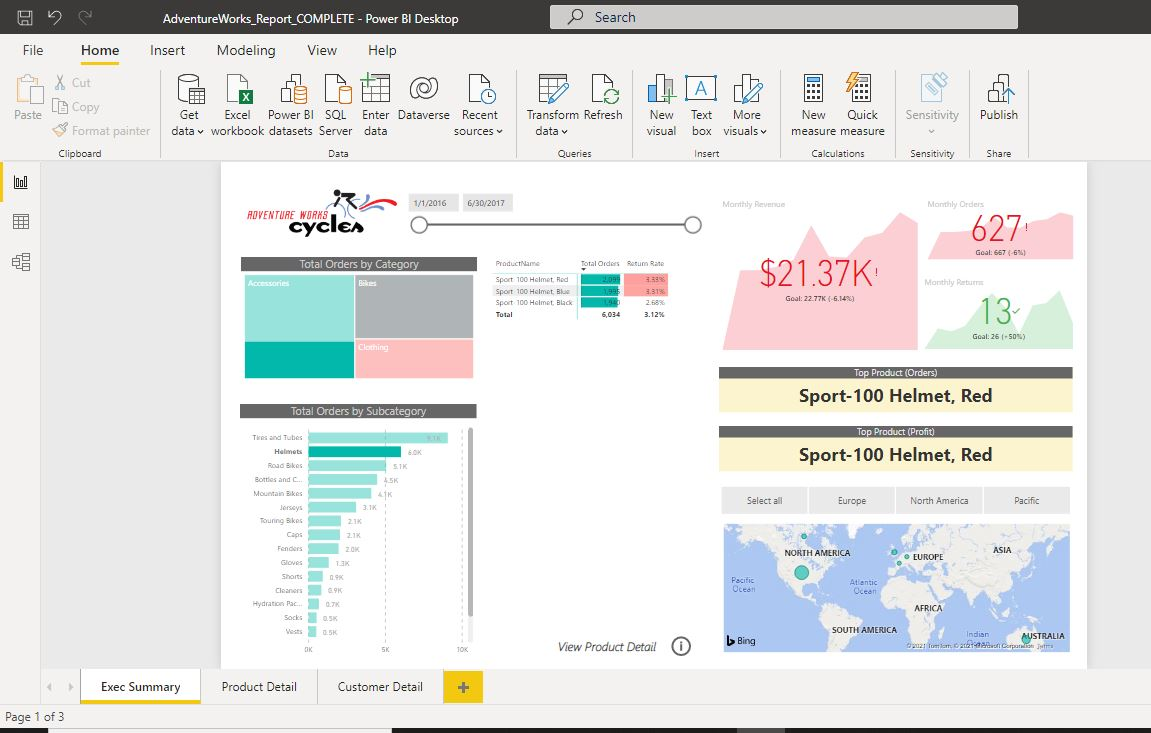

What the dashboard file says about the page in this screenshot:
{"tool":"powerbi","page":{"name":"Exec Summary","canvas":[1280,720],"ordinal":0},"visuals":[{"type":"map","fields":{"Category":["AW_Territories_Lookup.Country"],"Size":["AW_Sales.Total Orders"]},"box":[737.2,499.1,523.3,201.3],"z":11},{"type":"slicer","fields":{"Values":["AW_Territories_Lookup.Continent"]},"box":[714.2,443.9,564.7,54.1],"z":12},{"type":"textbox","box":[492.1,670.1,259.7,37.7],"z":13},{"type":"image","box":[31.1,5.5,240.2,80.1],"z":1000},{"type":"barChart","fields":{"Y":["AW_Sales.Total Orders"],"Category":["AW_Product_Subcategory_Lookup.SubcategoryName"]},"box":[28.6,328.3,350,380.9],"z":2000},{"type":"treemap","fields":{"Group":["AW_Product_Category_Lookup.CategoryName","AW_Product_Subcategory_Lookup.SubcategoryName"],"Values":["AW_Sales.Total Orders"]},"box":[29.3,110.7,348.9,185.3],"z":3000},{"type":"pivotTable","fields":{"Values":["AW_Sales.Total Orders","AW_Returns.Return Rate"],"Rows":["AW_Product_Category_Lookup.CategoryName","AW_Product_Subcategory_Lookup.SubcategoryName","AW_Product_Lookup.ProductName"]},"box":[395.8,106.4,319.1,555.7],"z":4000},{"type":"slicer","fields":{"Values":["AW_Calendar_Lookup.Date"]},"box":[265.4,7.3,454.1,85.8],"z":5000},{"type":"kpi","fields":{"Indicator":["AW_Sales.Total Revenue"],"TrendLine":["AW_Calendar_Lookup.Start of Month"],"Goal":["AW_Sales.Prev Month Revenue"]},"box":[736.7,24,298.6,229.7],"z":6000},{"type":"kpi","fields":{"TrendLine":["AW_Calendar_Lookup.Start of Month"],"Indicator":["AW_Sales.Total Orders"],"Goal":["AW_Sales.Prev Month Orders"]},"box":[1038.6,24,226.5,95.6],"z":7000},{"type":"kpi","fields":{"TrendLine":["AW_Calendar_Lookup.Start of Month"],"Indicator":["AW_Returns.Total Returns"],"Goal":["AW_Returns.Prev Month Returns"]},"box":[1035.2,139.6,229.9,112.8],"z":8000},{"type":"card","fields":{"Values":["Min(AW_Product_Lookup.ProductName)"]},"box":[736.7,273.4,522.8,67.5],"z":9000},{"type":"card","fields":{"Values":["Min(AW_Product_Lookup.ProductName)"]},"box":[736.7,360.8,522.8,67.5],"z":10000},{"type":"actionButton","box":[661.2,666.9,59.3,38.9],"z":10001}]}

Visuals, with their boxes on the page's 1280x720 design canvas (x1, y1, x2, y2). These are canvas units, not pixel positions in the 1151x733 screenshot, which may show the page scaled, cropped or inside an application window:
map - AW_Territories_Lookup.Country x AW_Sales.Total Orders: (737,499,1260,700)
slicer - AW_Territories_Lookup.Continent: (714,444,1279,498)
textbox: (492,670,752,708)
image: (31,6,271,86)
barChart - AW_Sales.Total Orders x AW_Product_Subcategory_Lookup.SubcategoryName: (29,328,379,709)
treemap - AW_Product_Category_Lookup.CategoryName x AW_Product_Subcategory_Lookup.SubcategoryName: (29,111,378,296)
pivotTable - AW_Sales.Total Orders x AW_Returns.Return Rate: (396,106,715,662)
slicer - AW_Calendar_Lookup.Date: (265,7,720,93)
kpi - AW_Sales.Total Revenue x AW_Calendar_Lookup.Start of Month: (737,24,1035,254)
kpi - AW_Calendar_Lookup.Start of Month x AW_Sales.Total Orders: (1039,24,1265,120)
kpi - AW_Calendar_Lookup.Start of Month x AW_Returns.Total Returns: (1035,140,1265,252)
card - Min(AW_Product_Lookup.ProductName): (737,273,1260,341)
card - Min(AW_Product_Lookup.ProductName): (737,361,1260,428)
actionButton: (661,667,720,706)
